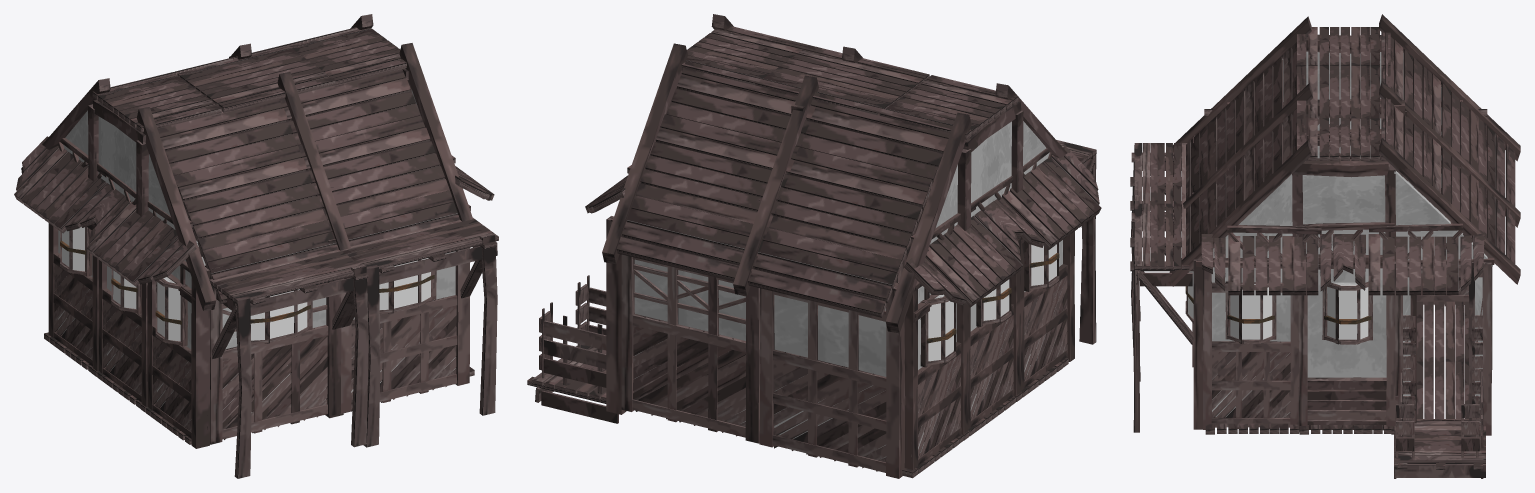
File: Tarven-col.glb
3 views of the same model, side by side, from view 1: azimuth 30°, elevation 25°; view 2: azimuth 150°, elevation 25°; view 3: azimuth 270°, elevation 25° (orthographic). The views are drawn at different scales.
Visible parts, largest first — view 1: Tarven-col; view 2: Tarven-col; view 3: Tarven-col.
Part boxes in pixels (bbox=[...]): Tarven-col: bbox=[14, 14, 498, 478]; Tarven-col: bbox=[527, 14, 1101, 478]; Tarven-col: bbox=[1130, 14, 1520, 478].
Bounding box in the file's own units: 8.48 × 6.36 × 7.42.
1 material, 1 textured.
